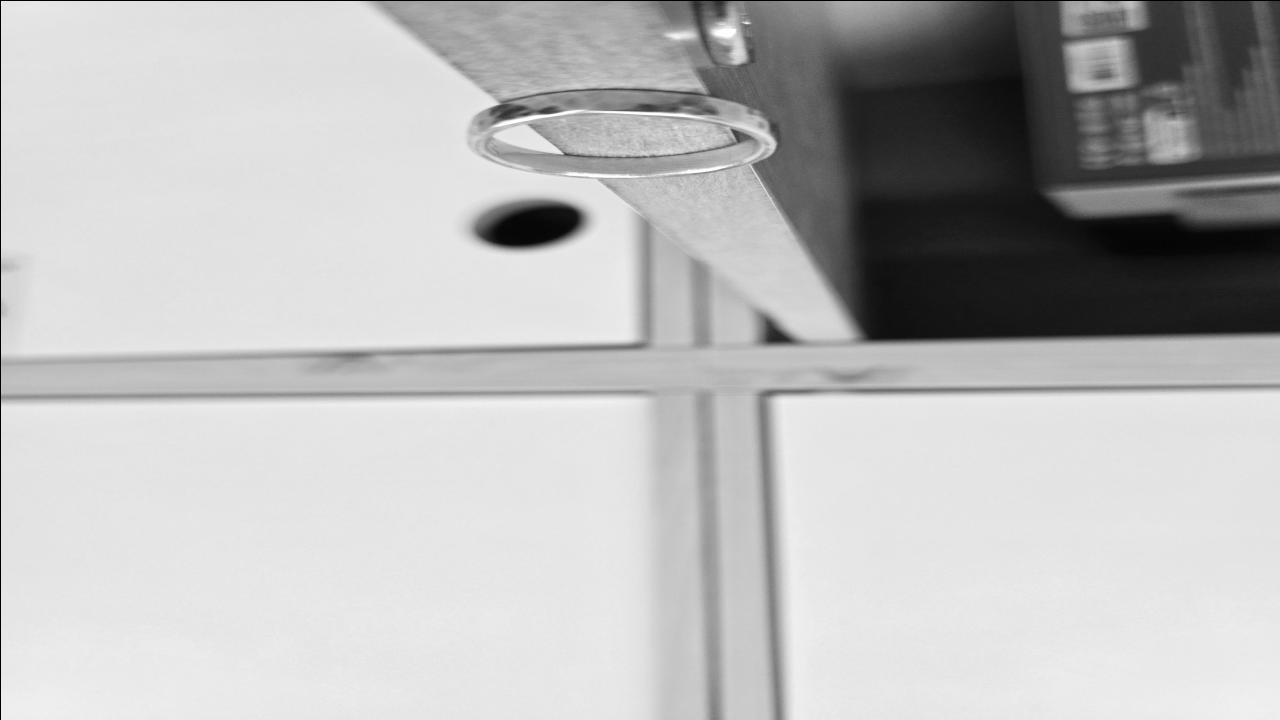ring: (462, 87, 781, 178)
